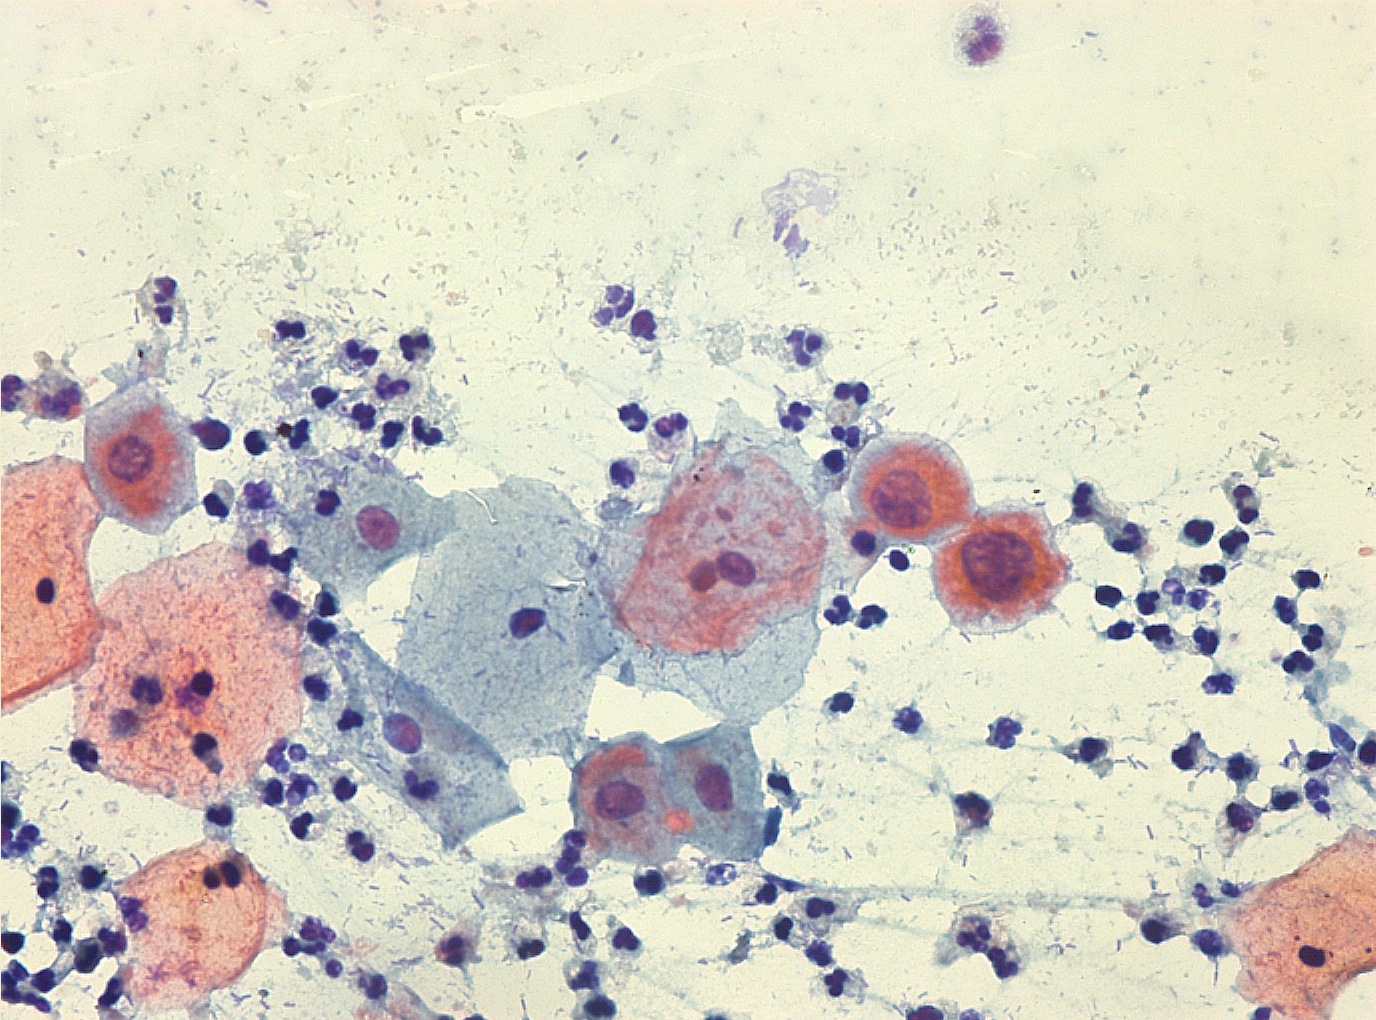Abn: (962, 530, 1035, 605), (866, 467, 934, 532), (106, 434, 156, 484)
